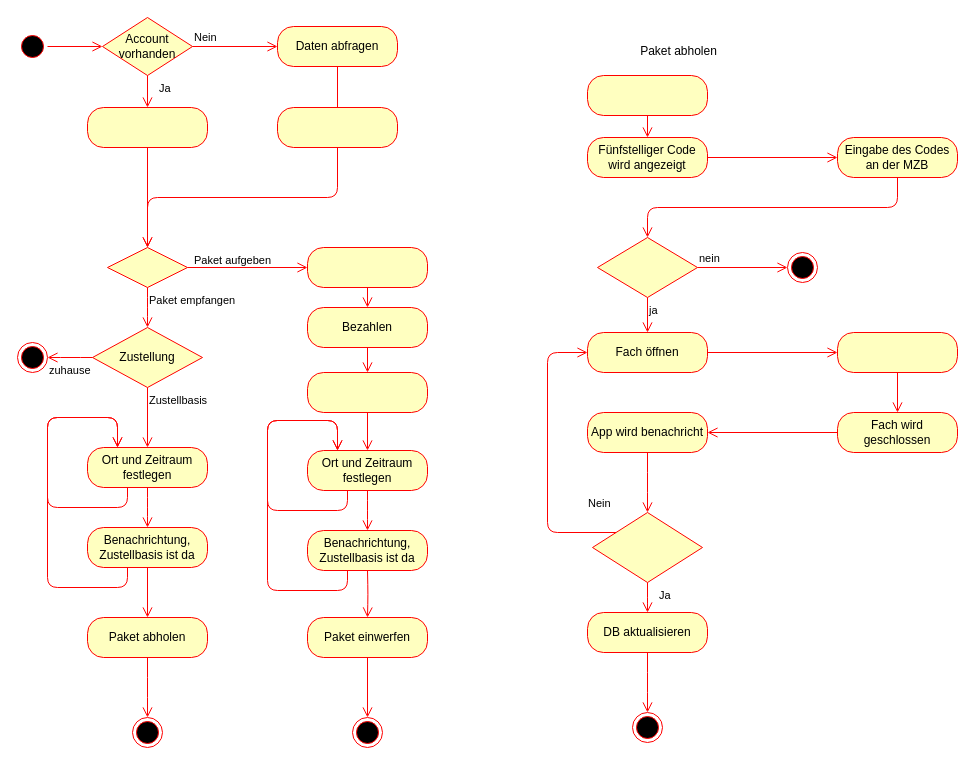
Image size: 975x765. Some labels were removed from this diagram. The shapes that lost their labels are listed below. From the top down, each one's box as (x1, y1, x2, y2) in pixels, then its label:
(586, 74, 708, 116): Klick auf "Sendung entgegennehmen"
(86, 106, 208, 148): Log In
(276, 106, 398, 148): Account erstellen
(306, 246, 428, 288): Paketgröße auswählen
(596, 236, 698, 298): Paket vorhanden
(836, 332, 958, 372): Fach öffnet
(306, 372, 428, 412): Etikett drucken
(592, 512, 702, 582): Paket entnommen
